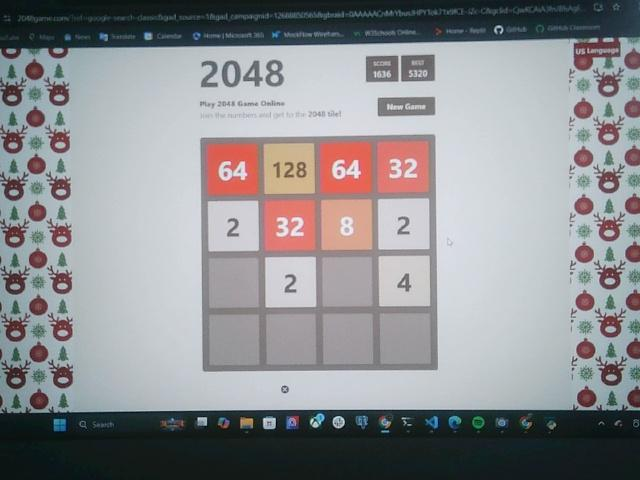board: (201, 138, 437, 370)
tile: (378, 198, 430, 251), (207, 143, 259, 195), (320, 142, 372, 194), (265, 256, 317, 308), (378, 141, 429, 193), (265, 143, 316, 194), (208, 200, 259, 251), (265, 199, 315, 251), (321, 200, 373, 250), (379, 256, 431, 306)
